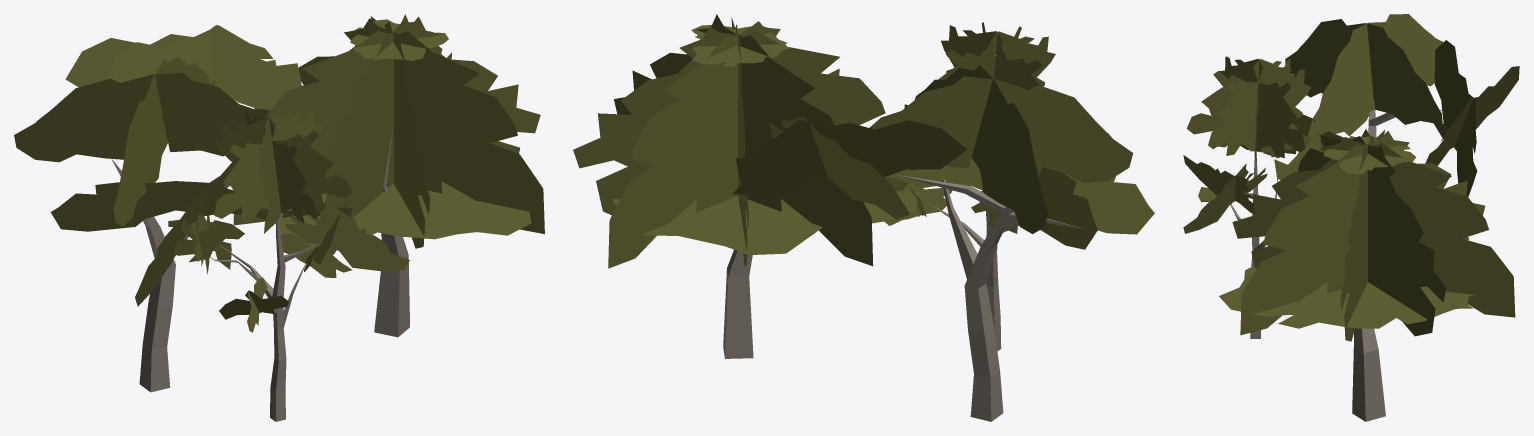
File: Tree20.fbx
The picture shows the model from 3 angles, left to right: view 1: azimuth 30°, elevation 25°; view 2: azimuth 150°, elevation 25°; view 3: azimuth 270°, elevation 25°; orthographic projection. The views are drawn at different scales.
Parts seen in each view (by area): view 1: Flat_half_tree.020; view 2: Flat_half_tree.020; view 3: Flat_half_tree.020.
Part boxes in pixels (box(x1,y1,x2,y2)): Flat_half_tree.020: box(14, 14, 544, 421); Flat_half_tree.020: box(573, 14, 1154, 421); Flat_half_tree.020: box(1183, 14, 1519, 421).
Size of the model in its own units: 5.86 by 3.78 by 3.97.
